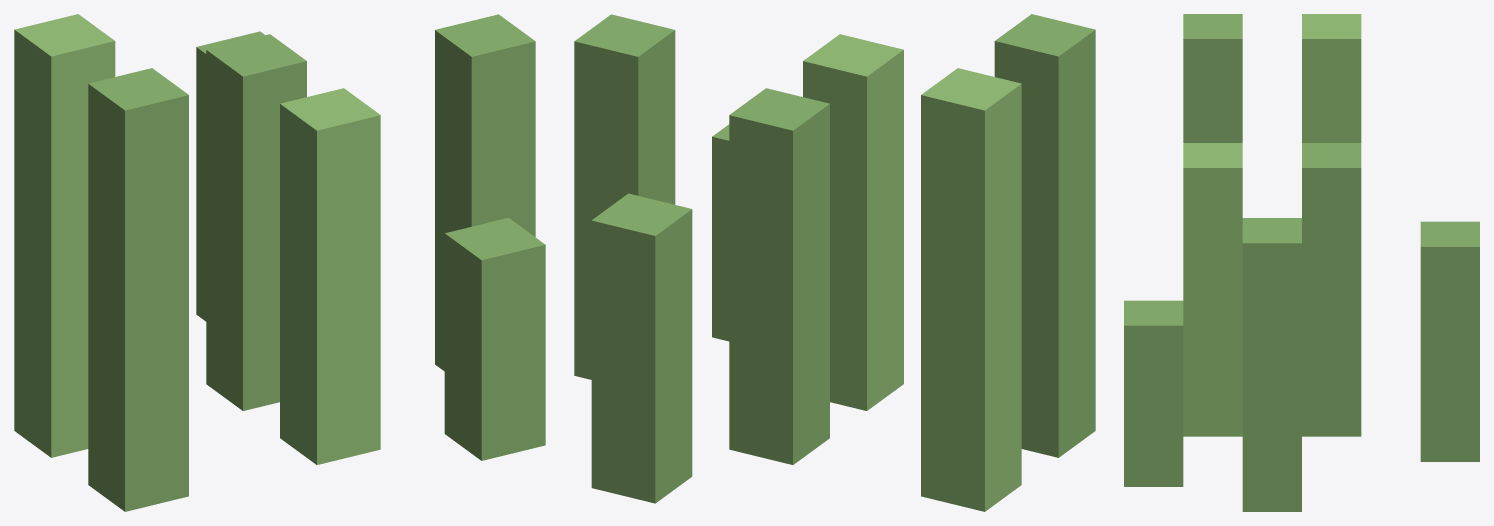
Rendered from hierba_corta_02.glb.
3 views of the same model, side by side, from view 1: azimuth 30°, elevation 25°; view 2: azimuth 150°, elevation 25°; view 3: azimuth 270°, elevation 25° (orthographic). The views are drawn at different scales.
Visible parts, largest first — view 1: hierba_corta_02; view 2: hierba_corta_02; view 3: hierba_corta_02.
Part boxes in pixels (box(x1,y1,x2,y2)): hierba_corta_02: box(14, 14, 545, 511); hierba_corta_02: box(574, 14, 1095, 511); hierba_corta_02: box(1124, 14, 1479, 511).
Bounding box in the file's own units: 0.7 × 0.6 × 0.6.
